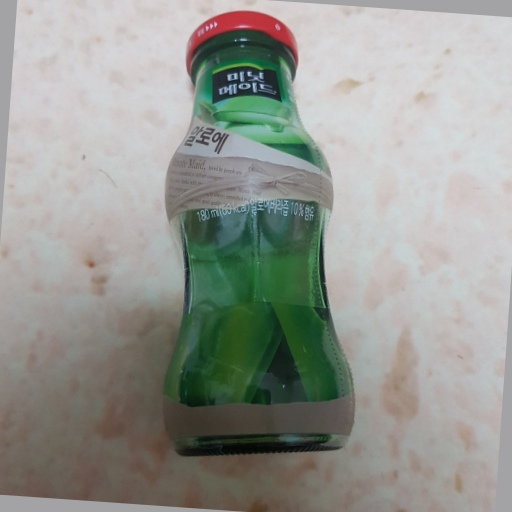Glass_4: (161, 8, 359, 459)
